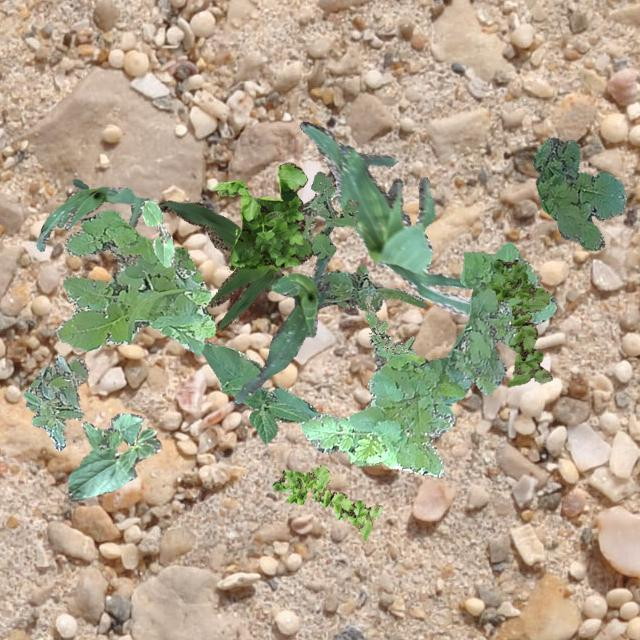crop: (298, 120, 471, 316), (158, 200, 282, 330), (233, 255, 329, 402), (200, 340, 318, 442), (35, 178, 148, 250), (68, 426, 160, 501), (140, 198, 174, 266), (80, 412, 142, 449), (104, 278, 114, 288)
weed: (300, 242, 556, 476), (52, 208, 214, 354), (532, 136, 626, 250), (212, 162, 312, 268), (272, 464, 382, 540), (490, 258, 550, 384), (22, 352, 88, 450), (318, 264, 426, 310), (310, 170, 358, 258), (364, 294, 416, 354), (300, 190, 334, 242)
